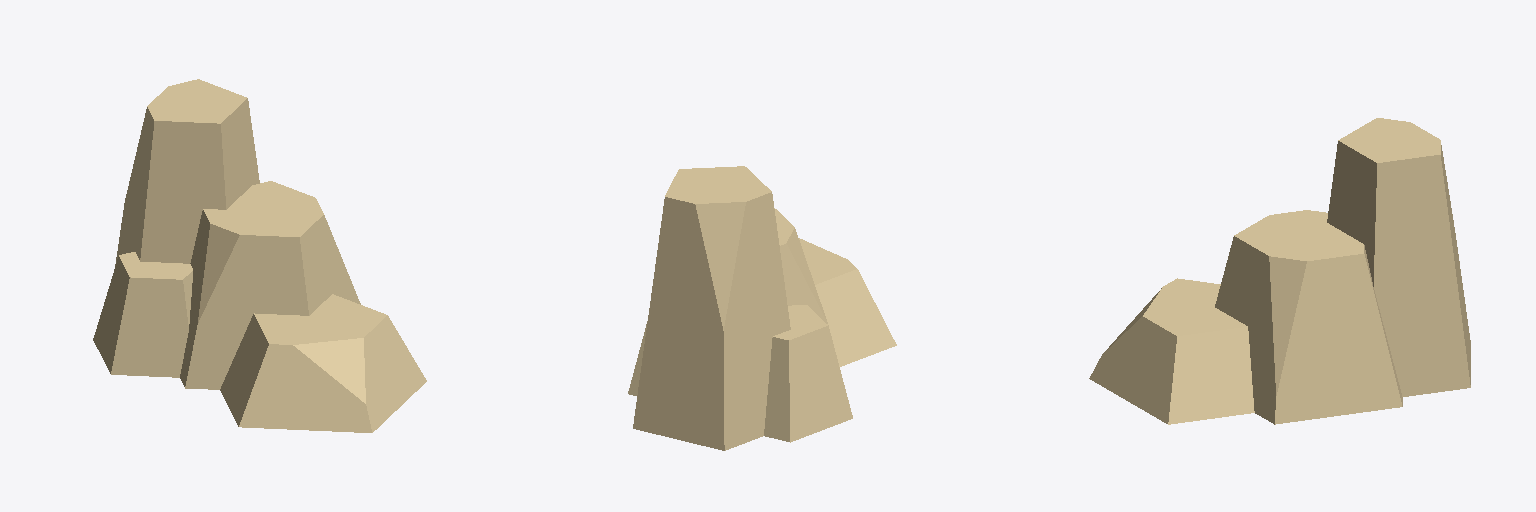
The model's file is rockC12.obj.
The picture shows the model from 3 angles: view 1: azimuth 30°, elevation 25°; view 2: azimuth 150°, elevation 25°; view 3: azimuth 270°, elevation 25°; orthographic projection.
Parts seen in each view (by area): view 1: rockC2.001; view 2: rockC2.001; view 3: rockC2.001.
Part boxes in pixels (x1,y1,x2,y2): rockC2.001: (93,79,426,432); rockC2.001: (628,166,896,450); rockC2.001: (1089,118,1470,424).
Size of the model in its own units: 2.19 by 2.04 by 3.13.